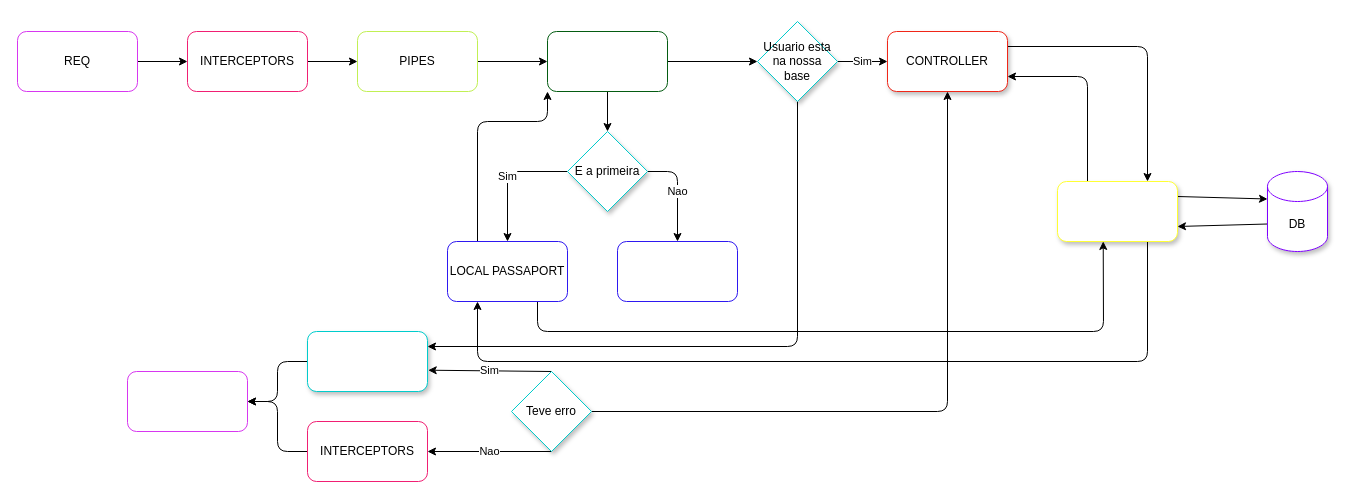
The diagram is 1351 pixels wide and 499 high, and some of its shapes have lost their labels. Each missing label, with the centre of its shape:
"Filter" goes at point (368, 362).
"GUARD" goes at point (607, 61).
"PASSAPORT JWT" goes at point (677, 271).
"RESPONSE" goes at point (187, 401).
"SERVICO" goes at point (1118, 212).
